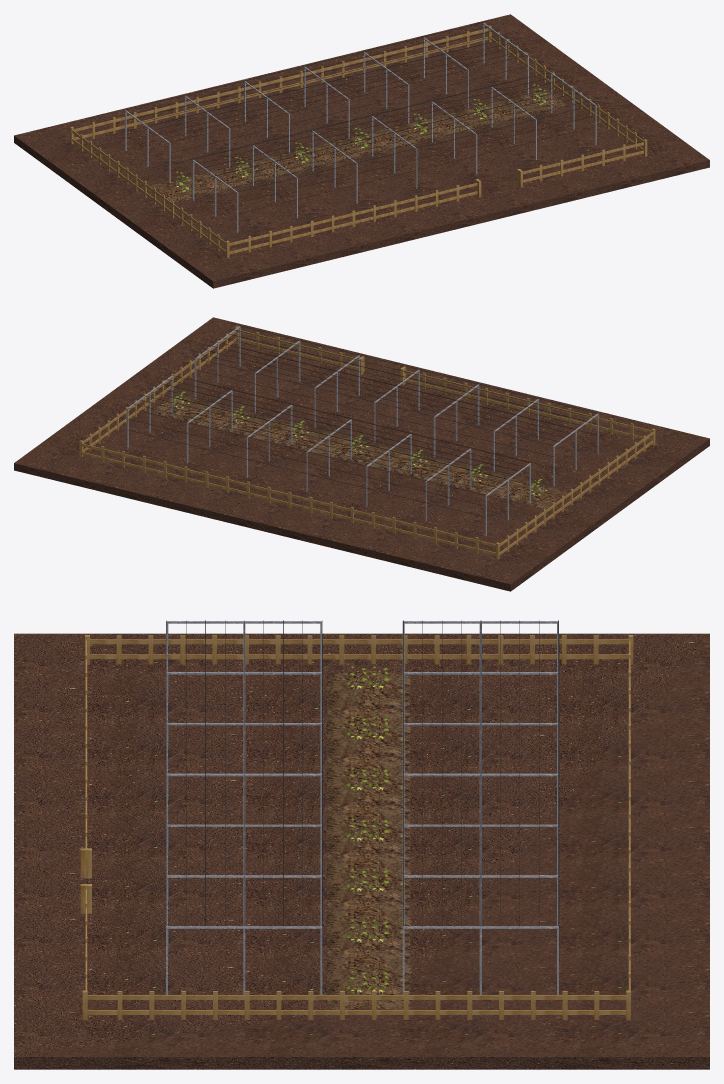
3 views of the same model, one above another, from view 1: azimuth 30°, elevation 25°; view 2: azimuth 150°, elevation 25°; view 3: azimuth 270°, elevation 25° (orthographic). The views are drawn at different scales.
Parts seen in each view (by area): view 1: cj02_gou, cj02_jiazi, cj02_tu, cj02_dimian; view 2: cj02_gou, cj02_jiazi, cj02_tu, cj02_dimian; view 3: cj02_gou, cj02_jiazi, cj02_tu, cj02_dimian, cj02_ye.
Part boxes in pixels (x1,y1,x2,y2): cj02_gou: [14, 14, 709, 288]; cj02_jiazi: [70, 22, 647, 257]; cj02_tu: [150, 89, 567, 202]; cj02_dimian: [14, 142, 709, 288]; cj02_gou: [14, 317, 709, 591]; cj02_jiazi: [79, 325, 655, 559]; cj02_tu: [152, 395, 569, 508]; cj02_dimian: [14, 440, 709, 591]; cj02_gou: [14, 633, 709, 1069]; cj02_jiazi: [80, 620, 633, 1020]; cj02_tu: [327, 670, 410, 1009]; cj02_dimian: [14, 1057, 709, 1069]; cj02_ye: [345, 671, 389, 989].
Bounding box in the file's own units: 1279 × 118 × 888.
